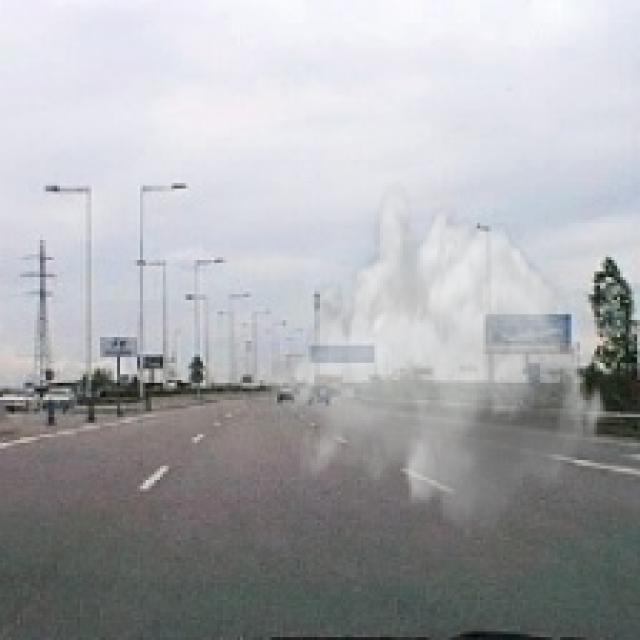smoke: (263, 180, 608, 546)
